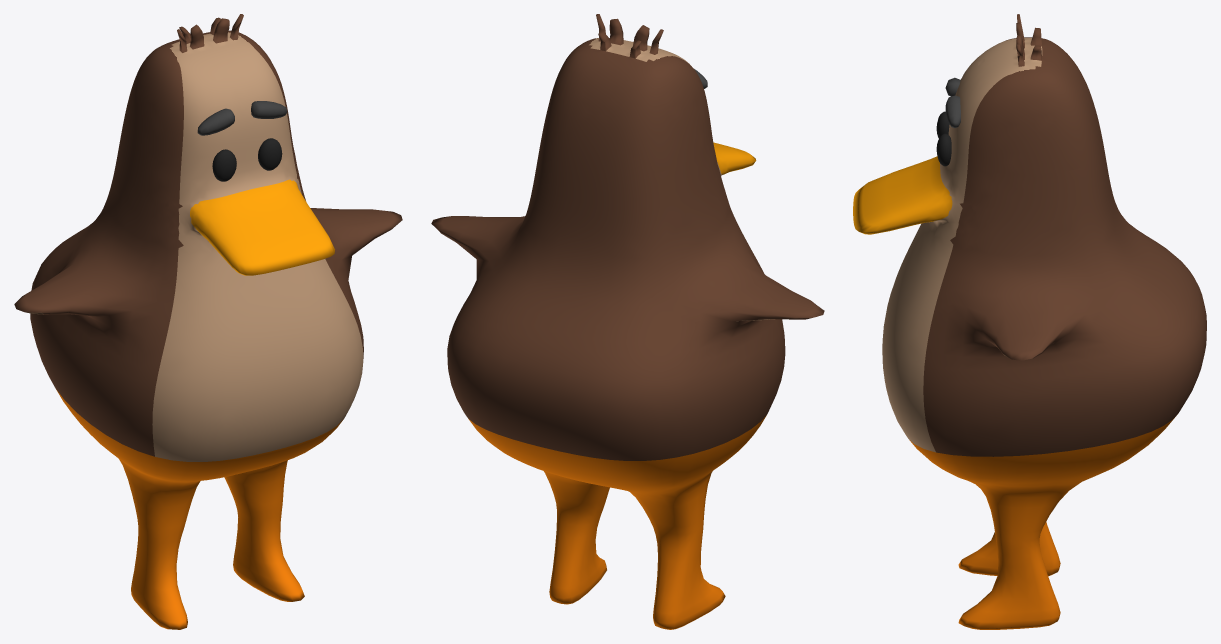
File: ducky.glb
The picture shows the model from 3 angles, left to right: view 1: azimuth 30°, elevation 25°; view 2: azimuth 150°, elevation 25°; view 3: azimuth 270°, elevation 25°; orthographic projection. The views are drawn at different scales.
Visible parts, largest first — view 1: ducky; view 2: ducky; view 3: ducky.
Part boxes in pixels (x1,y1,x2,y2): ducky: [14, 14, 402, 629]; ducky: [431, 14, 824, 629]; ducky: [853, 14, 1206, 629].
Size of the model in its own units: 1.31 by 1.87 by 1.05.
1 material, 1 textured.
